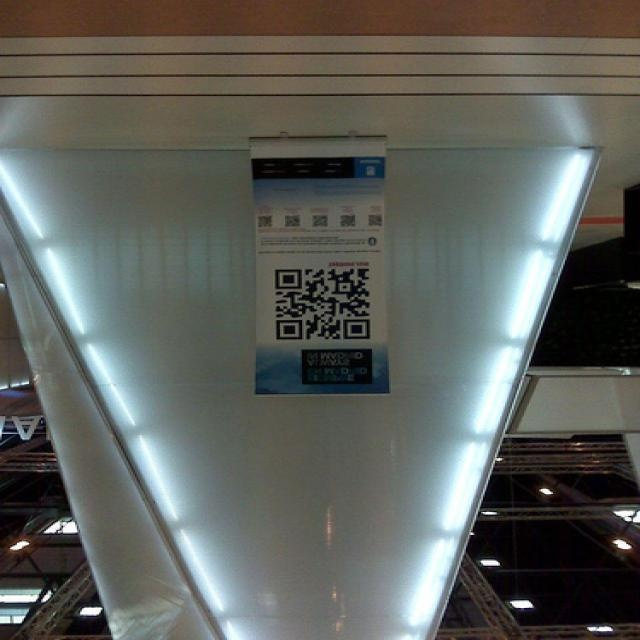qr-code: (274, 270, 368, 340), (259, 216, 272, 226), (369, 216, 382, 226), (287, 216, 299, 226), (315, 216, 327, 226), (342, 216, 354, 226)
